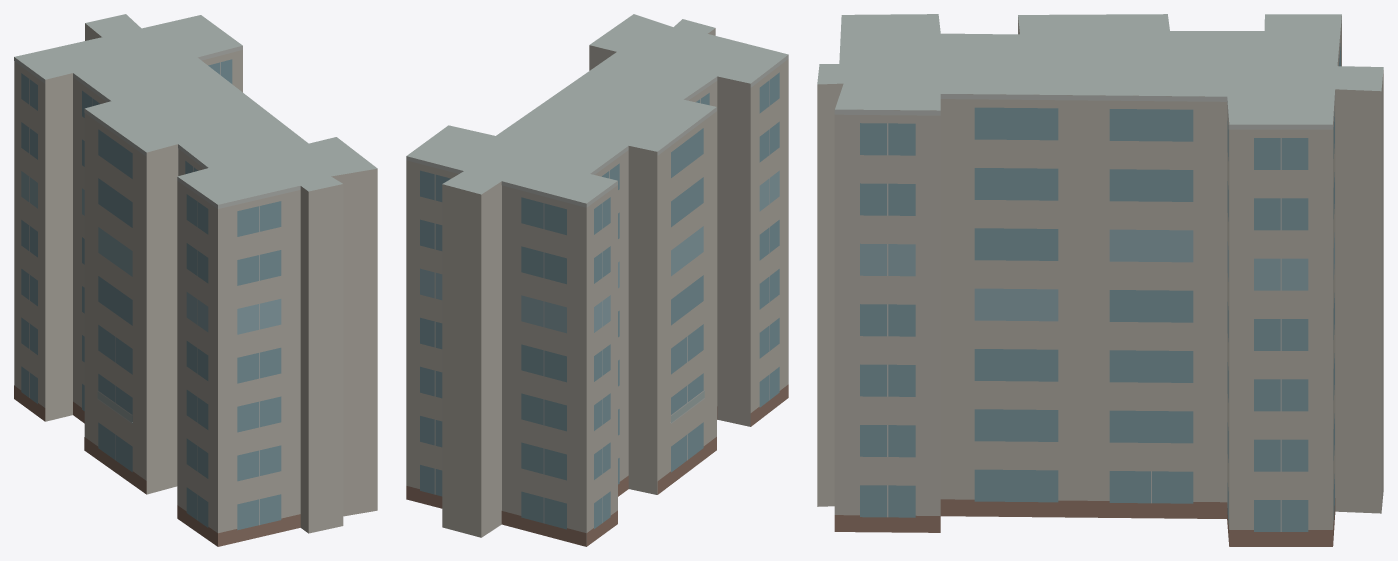
Rendered from survey-upis-32568813.glb.
3 views of the same model, side by side, from view 1: azimuth 30°, elevation 25°; view 2: azimuth 150°, elevation 25°; view 3: azimuth 270°, elevation 25° (orthographic). The views are drawn at different scales.
Parts seen in each view (by area): view 1: survey-upis-32568813.tmp; view 2: survey-upis-32568813.tmp; view 3: survey-upis-32568813.tmp.
Boxes of the visible parts, <box> form: survey-upis-32568813.tmp: <box>14,14,377,546</box>; survey-upis-32568813.tmp: <box>406,14,788,546</box>; survey-upis-32568813.tmp: <box>817,14,1383,546</box>.
Bounding box in the file's own units: 11.13 × 19.8 × 24.07.
